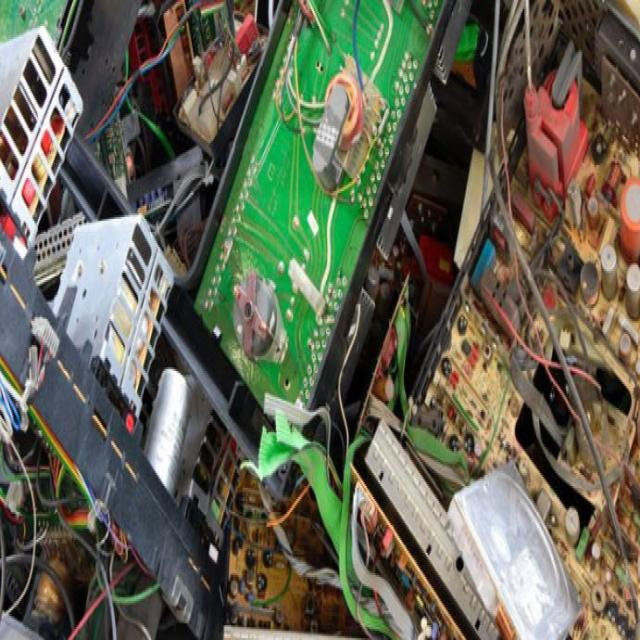electronic: (191, 0, 464, 450)
